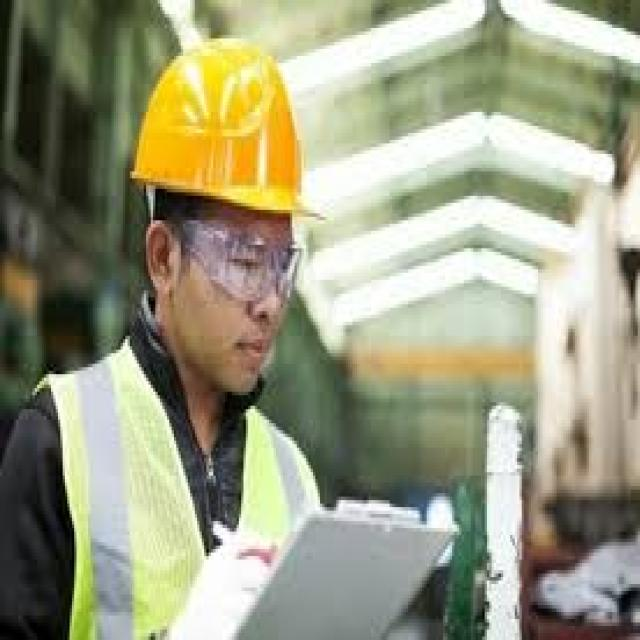glasses: (188, 227, 306, 307)
